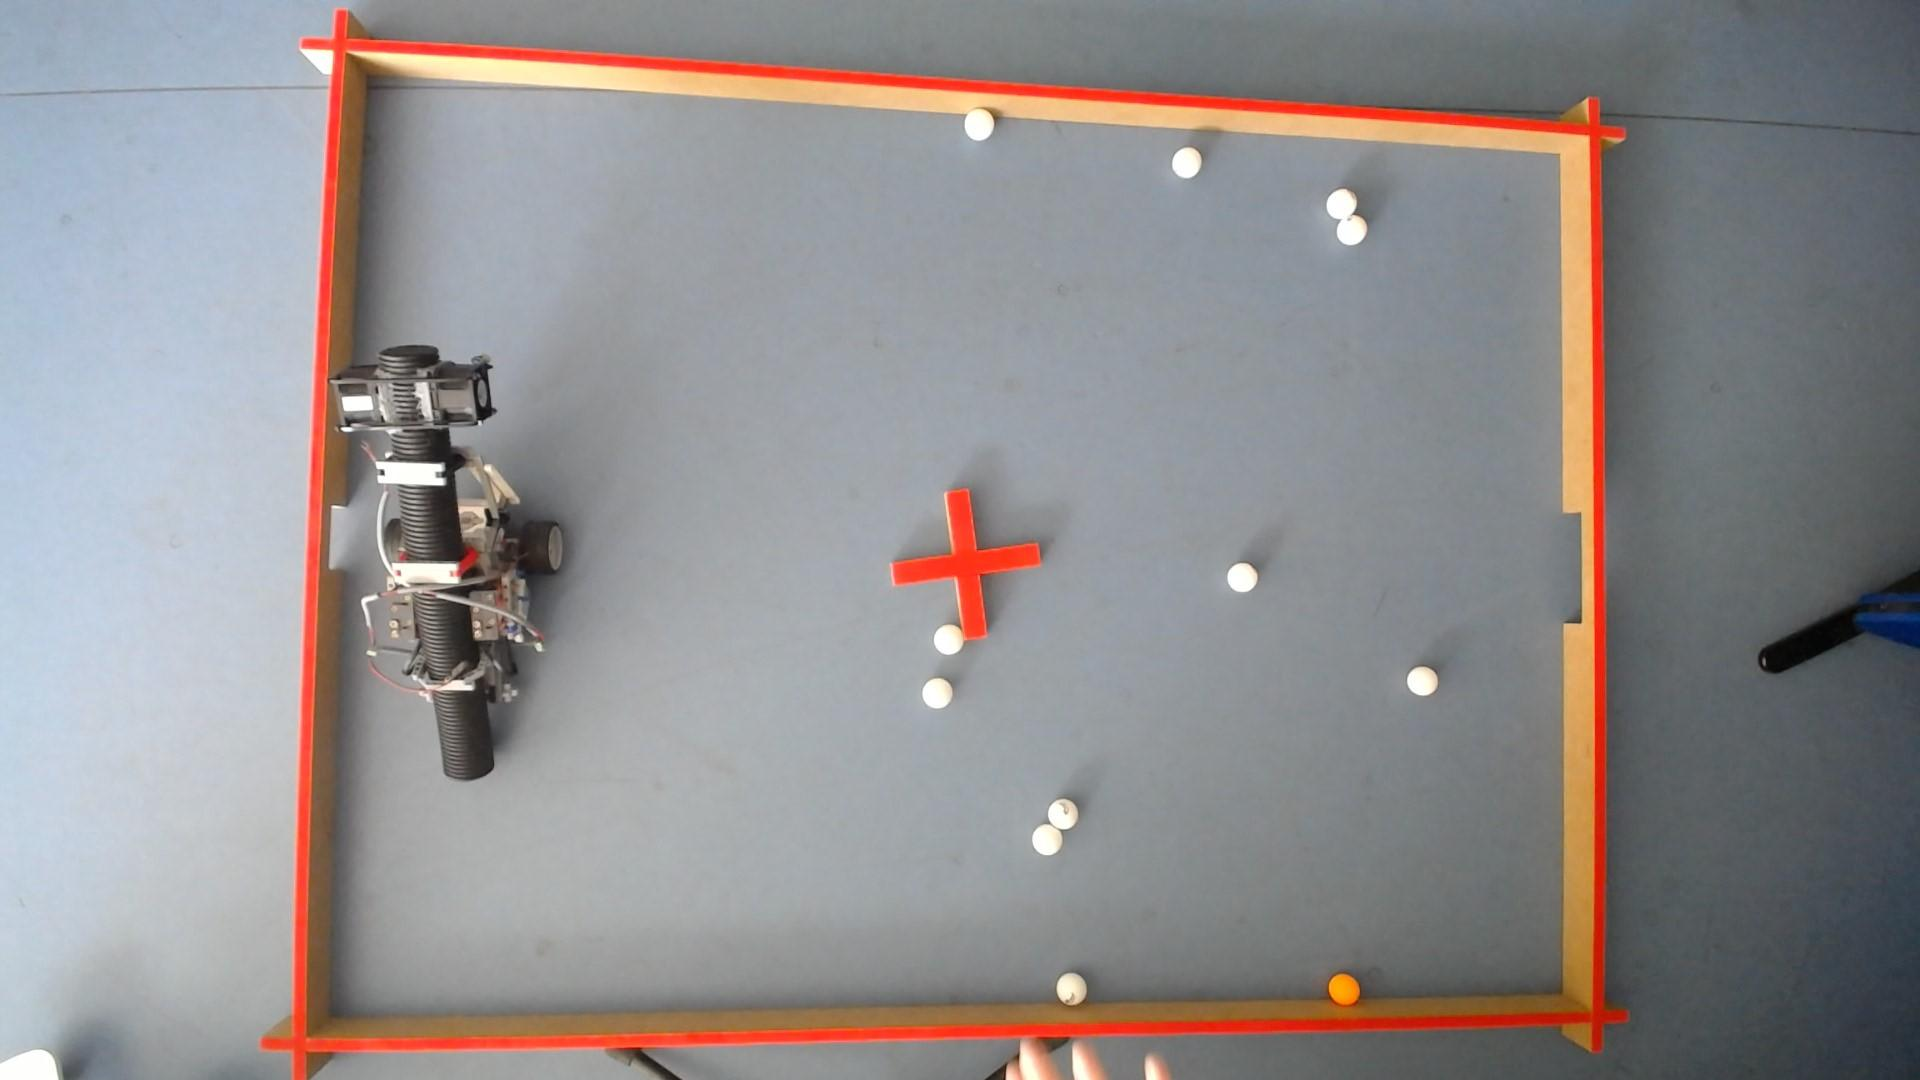orange: (1331, 975, 1362, 1007)
robot: (326, 343, 562, 779)
white: (1172, 142, 1205, 177), (1327, 186, 1360, 219), (964, 105, 996, 138), (1228, 560, 1261, 592), (1048, 798, 1080, 831), (1033, 823, 1064, 856), (1337, 212, 1369, 244), (934, 624, 967, 654), (1058, 973, 1088, 1006), (923, 676, 952, 708), (1410, 666, 1441, 695)
